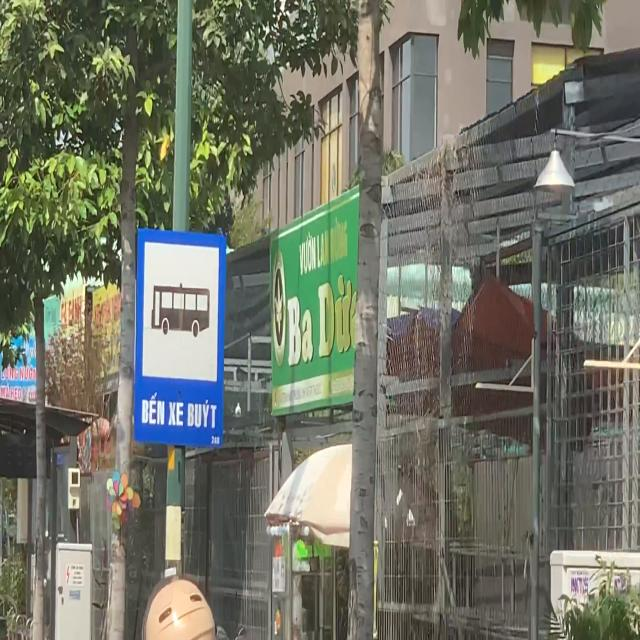Ben xe buyt: (134, 223, 228, 450)
